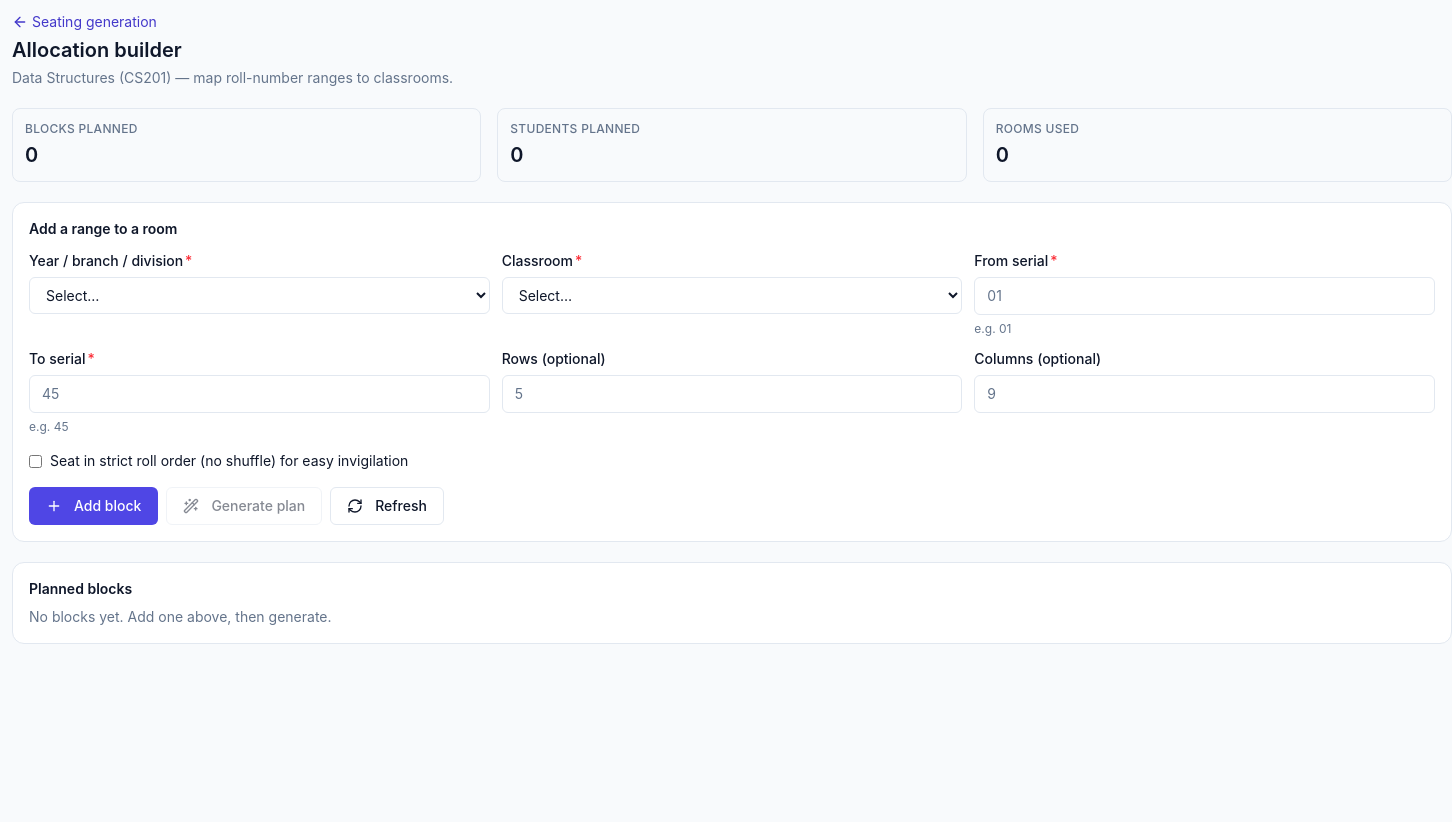
Test: AllocationBuilderPage › rejects an inverted serial range client-side
The width and height of the screenshot is (1452, 822).
Select "SE · AIDS · C (30)" in the dropdown labelled "Year / branch / division*". click: (259, 296)
box: [29,277,490,314]
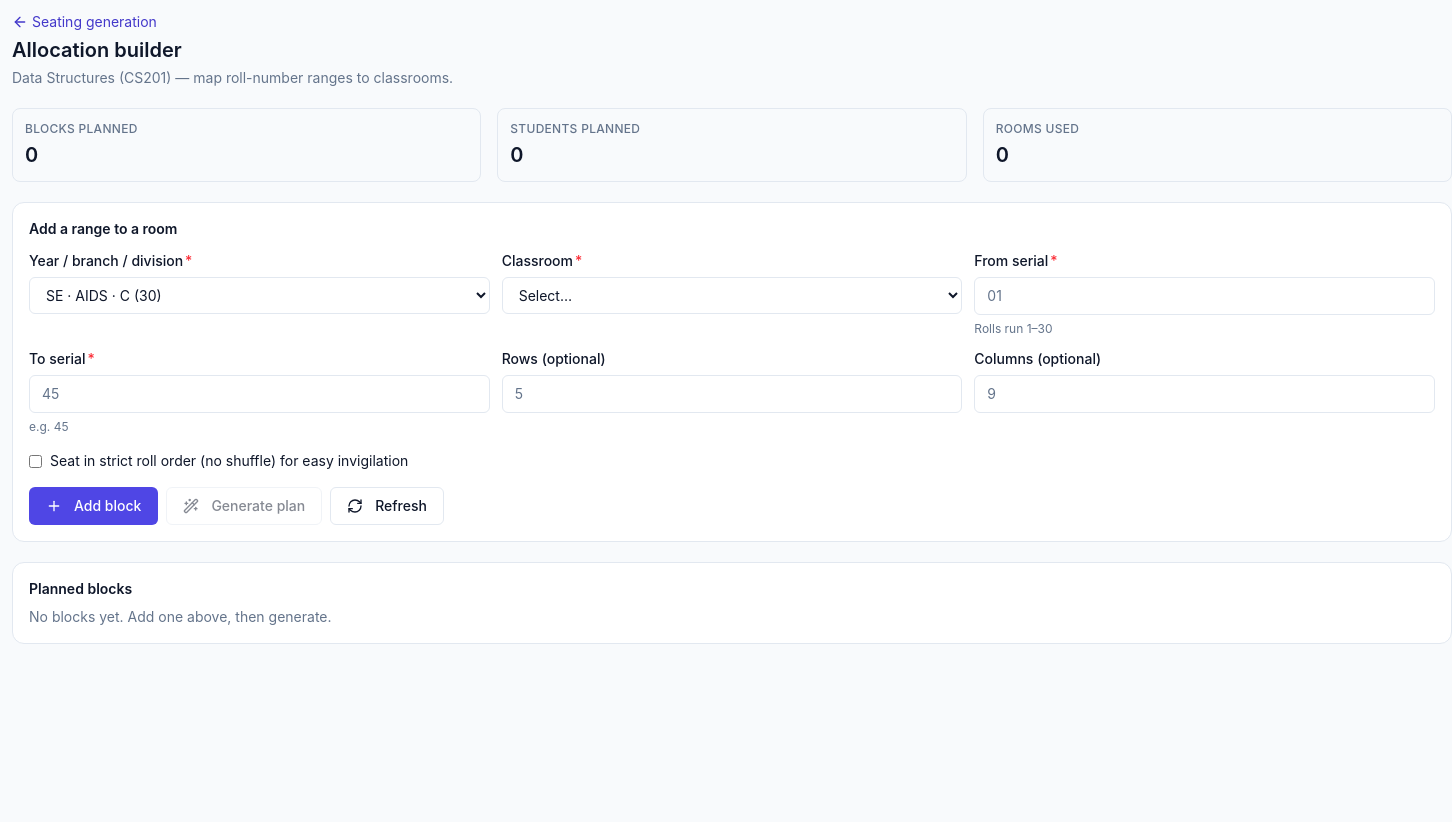
Select "706 · Floor 7 (60 free)" in the dropdown labelled "Classroom*". click: (732, 296)
box: [502,277,962,314]
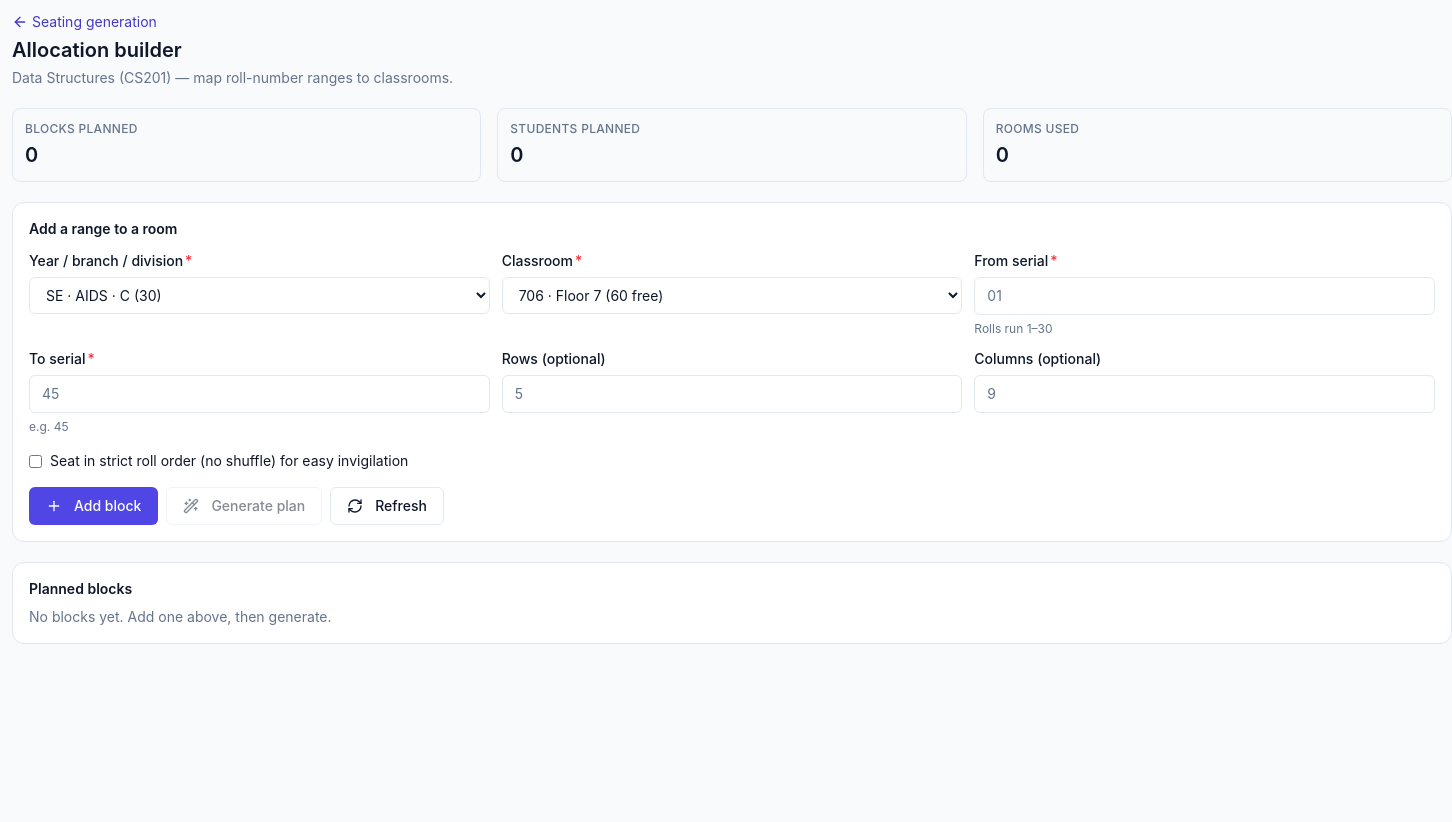
Type "45" into the number field labelled "From serial*". click: (1205, 296)
box: [974,277,1435,315]
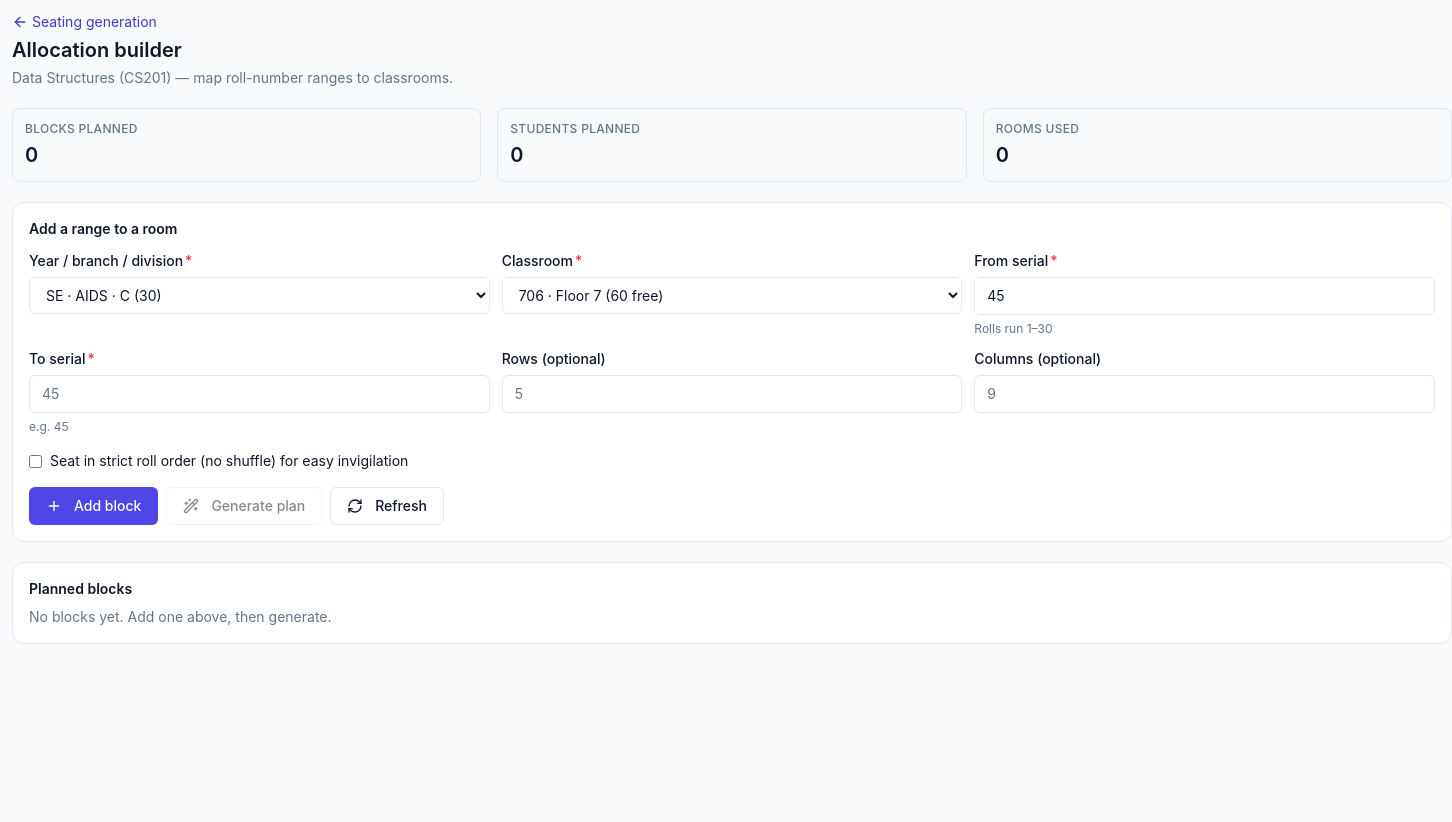
Type "1" into the number field labelled "To serial*". click: (259, 394)
box: [29,375,490,413]
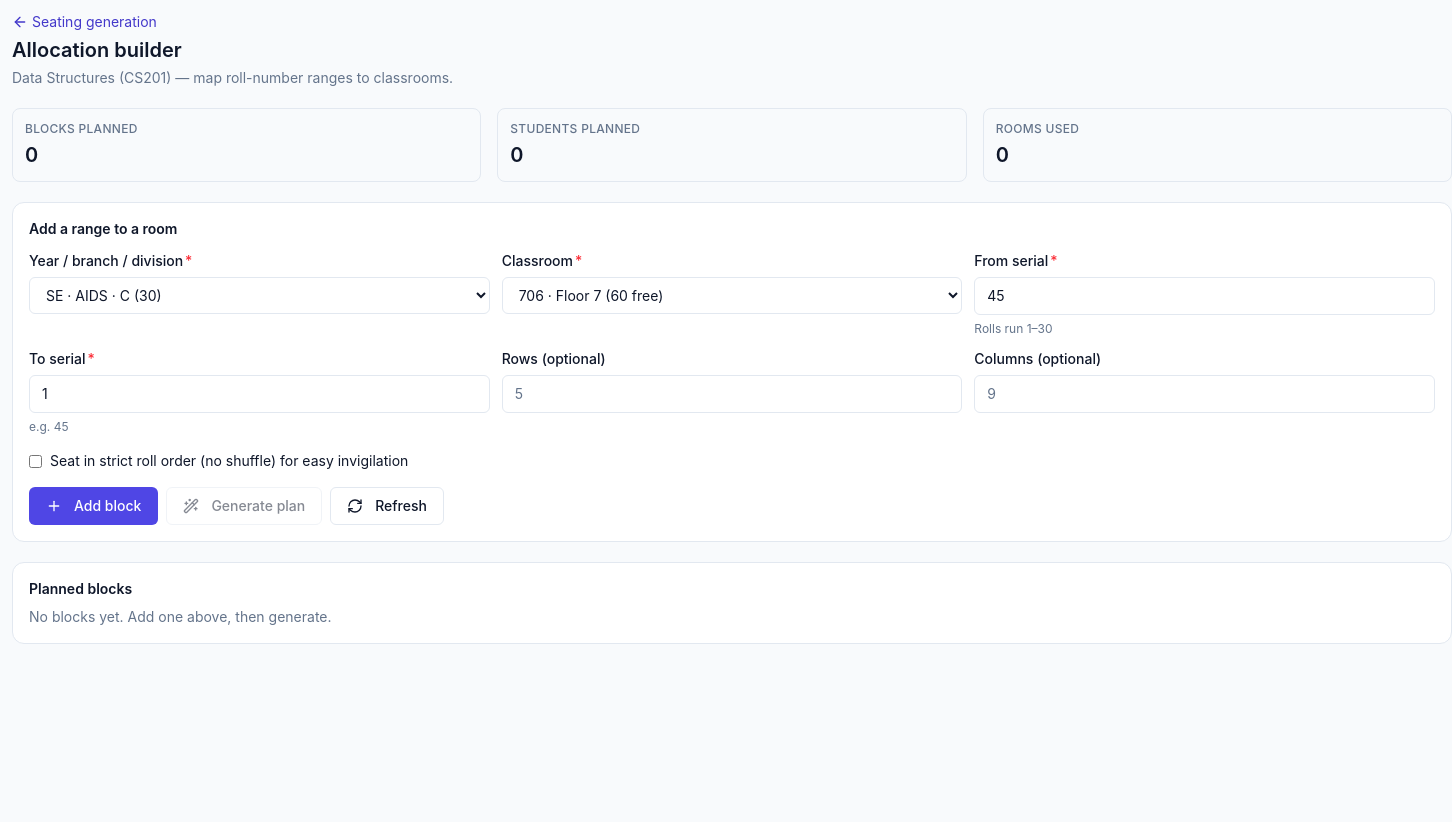
Click the button "Add block". click: (94, 506)
box: [29,487,158,525]
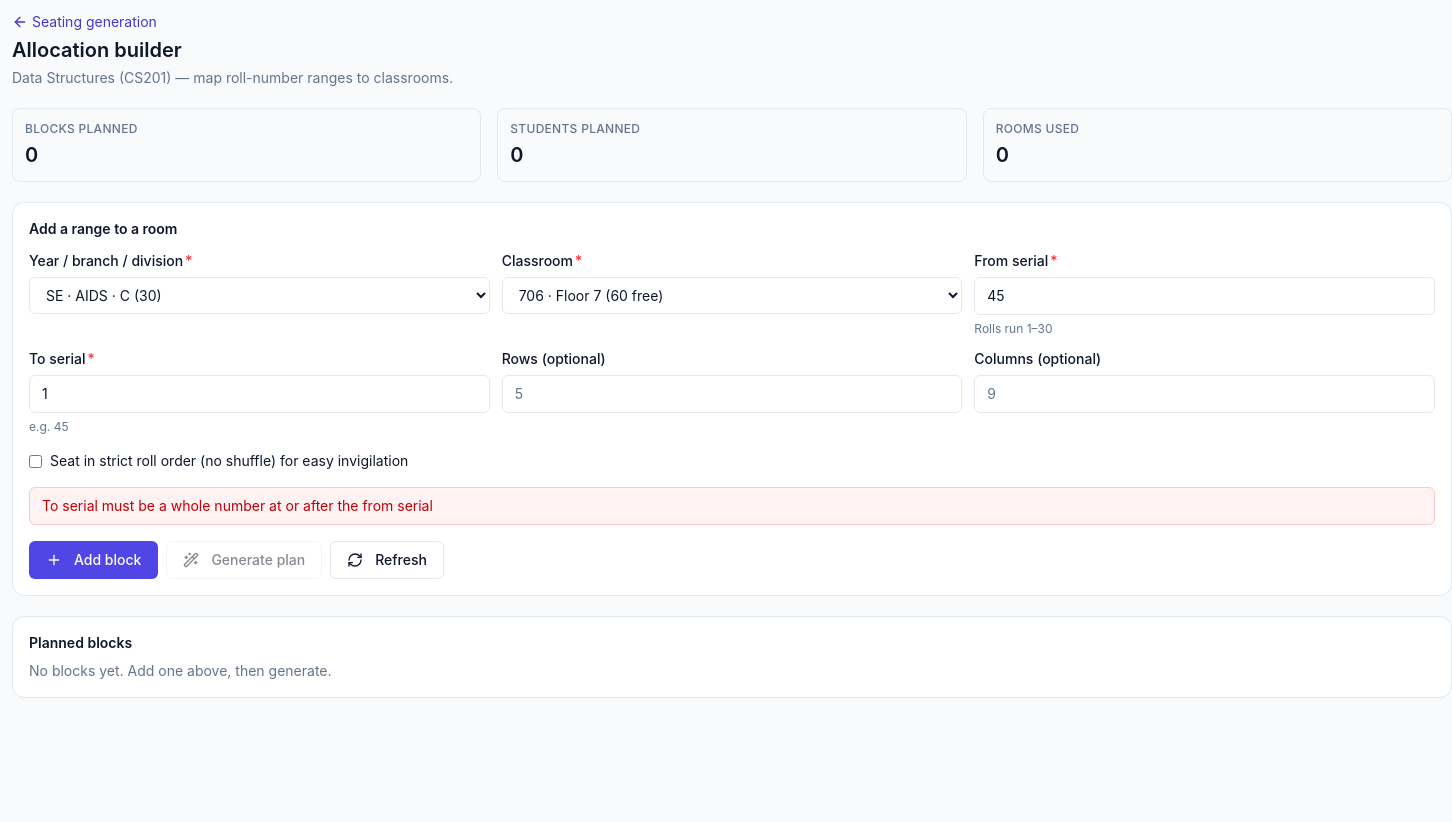
Result: the message shows "at or after the from serial" at [42,497,433,514]
